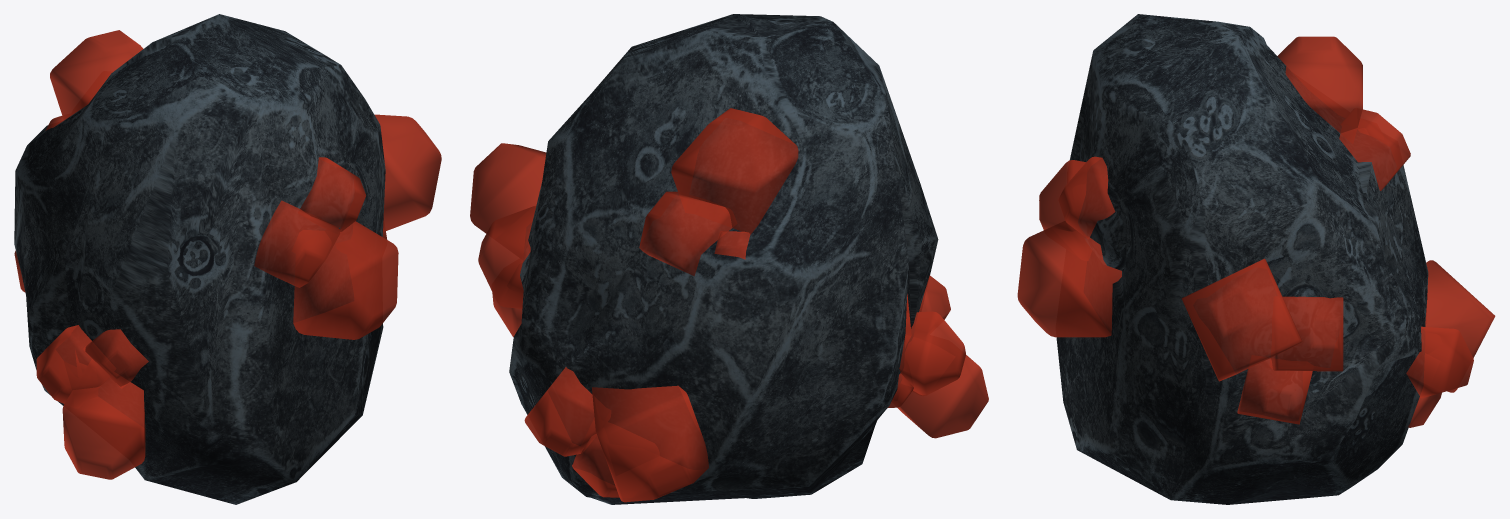
File: rockRed2.gltf
3 views of the same model, side by side, from view 1: azimuth 30°, elevation 25°; view 2: azimuth 150°, elevation 25°; view 3: azimuth 270°, elevation 25° (orthographic). The views are drawn at different scales.
Parts seen in each view (by area): view 1: RockLP, Cube.008, Cube.012, Cube.004, Cube.011, Cube, Cube.015, Cube.010, Cube.014; view 2: RockLP, Cube.016, Cube, Cube.012, Cube.004, Cube.003, Cube.018, Cube.015, Cube.007, Cube.019, Cube.014, Cube.001 (+1 smaller); view 3: RockLP, Cube.008, Cube.004, Cube, Cube.007, Cube.006, Cube.016, Cube.018, Cube.003, Cube.010, Cube.011, Cube.019.
Boxes of the visible parts, x1,y1,x2,y2 form: RockLP: (14,14,385,504); Cube.008: (292,221,398,339); Cube.012: (62,360,145,479); Cube.004: (374,114,441,232); Cube.011: (254,200,340,287); Cube: (50,30,143,120); Cube.015: (36,325,115,407); Cube.010: (298,157,365,231); Cube.014: (84,329,148,387); RockLP: (509,14,938,504); Cube.016: (592,385,708,502); Cube: (671,108,798,234); Cube.012: (893,335,988,438); Cube.004: (470,143,546,259); Cube.003: (639,191,736,276); Cube.018: (524,367,610,456); Cube.015: (899,311,965,395); Cube.007: (478,206,535,308); Cube.019: (572,421,658,497); Cube.014: (906,275,950,337); Cube.001: (714,231,750,259); RockLP: (1056,14,1428,504); Cube.008: (1017,221,1121,337); Cube.004: (1181,258,1302,381); Cube: (1277,36,1362,142); Cube.007: (1270,296,1343,371); Cube.006: (1237,355,1312,424); Cube.016: (1425,260,1495,392); Cube.018: (1406,326,1473,398); Cube.003: (1339,108,1410,190); Cube.010: (1058,156,1115,238); Cube.011: (1039,160,1091,260); Cube.019: (1408,354,1441,427).
Bounding box in the file's own units: 3.02 × 3.05 × 2.91.
2 materials, 1 textured.
